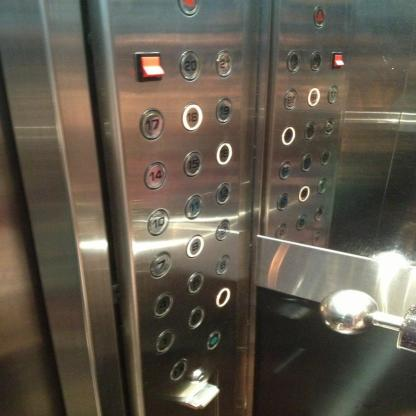1: (154, 327, 178, 354)
10: (144, 207, 172, 236)
11: (182, 192, 204, 221)
12: (213, 180, 231, 206)
14: (141, 160, 168, 189)
15: (181, 149, 203, 177)
16: (213, 139, 235, 167)
17: (136, 106, 165, 142)
18: (180, 101, 205, 134)
19: (213, 97, 235, 126)
20: (177, 50, 201, 83)
21: (212, 48, 235, 77)
4: (152, 290, 174, 319)
5: (185, 271, 206, 296)
6: (213, 252, 231, 278)
7: (148, 250, 172, 281)
8: (184, 232, 206, 260)
9: (212, 217, 231, 243)
alarm: (309, 4, 328, 31)
blur: (186, 304, 207, 329), (167, 358, 188, 381), (214, 286, 230, 308)
open: (204, 329, 223, 352)
switch: (131, 51, 165, 83), (328, 49, 350, 71)
unknown: (282, 49, 303, 74), (305, 47, 326, 72), (280, 88, 301, 112), (300, 119, 318, 142), (324, 84, 342, 106), (321, 115, 339, 137), (276, 159, 294, 180), (295, 183, 313, 204), (275, 190, 292, 212), (298, 152, 316, 172), (318, 147, 335, 168), (315, 176, 332, 197), (312, 202, 329, 223), (306, 86, 322, 108), (280, 124, 296, 146), (272, 222, 290, 240), (292, 212, 310, 230)
